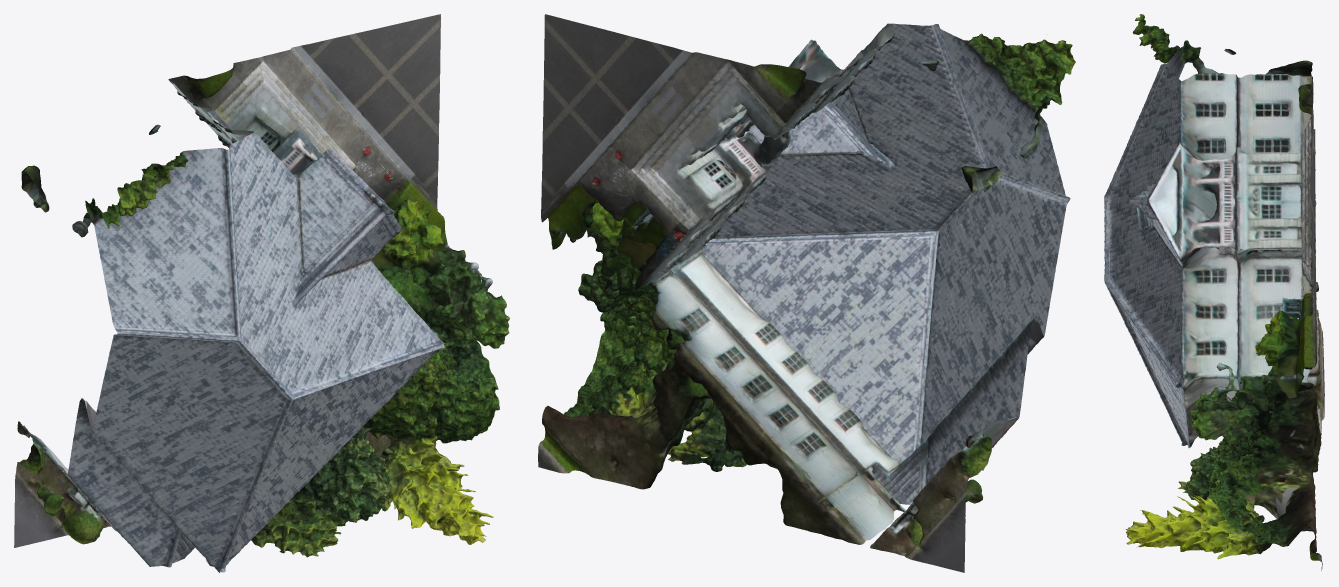
The model's file is Tile_+009_+016.fbx.
3 renders of one model, left to right at view 1: azimuth 30°, elevation 25°; view 2: azimuth 150°, elevation 25°; view 3: azimuth 270°, elevation 25°, orthographic. The views are drawn at different scales.
Visible parts, largest first — view 1: DefaultName; view 2: DefaultName; view 3: DefaultName.
Part boxes in pixels (bbox=[...]): DefaultName: bbox=[14, 14, 509, 572]; DefaultName: bbox=[538, 14, 1075, 572]; DefaultName: bbox=[1104, 14, 1324, 570].
Size of the model in its own units: 22.54 by 22.54 by 11.83.
